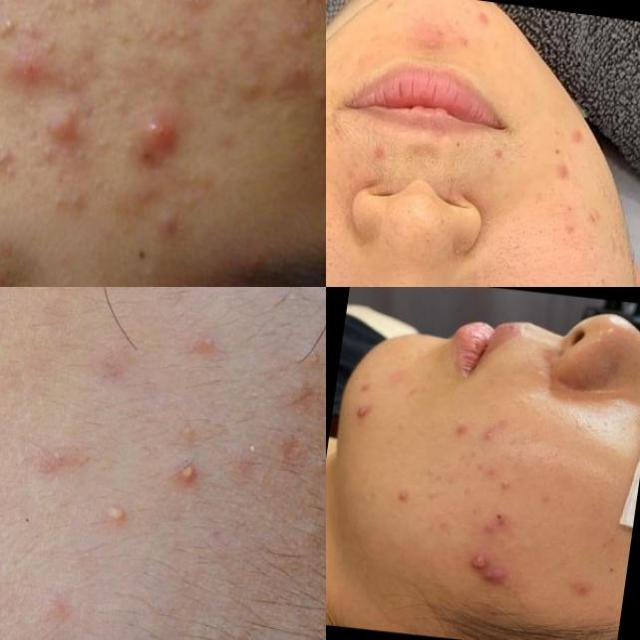acne_scars: (556, 210, 580, 250), (551, 158, 575, 192), (566, 118, 586, 154)
comedone: (41, 179, 97, 221), (286, 506, 324, 563), (162, 6, 200, 58), (0, 134, 26, 188), (122, 248, 156, 287), (302, 169, 326, 224), (165, 190, 204, 223), (202, 85, 237, 118), (100, 86, 125, 125), (0, 8, 25, 42), (88, 125, 112, 159), (164, 0, 216, 14), (234, 70, 264, 94), (592, 265, 620, 287), (308, 82, 326, 114), (319, 456, 326, 508)
papule: (0, 33, 50, 96), (40, 93, 86, 150), (270, 55, 320, 106), (379, 487, 418, 526), (437, 416, 472, 454), (478, 510, 515, 538), (472, 1, 497, 40)
pustule: (120, 98, 193, 172), (172, 450, 212, 491), (88, 498, 126, 533), (340, 400, 370, 433), (472, 423, 502, 455), (484, 479, 516, 503)
sebo-crystan-conglo: (476, 571, 514, 593), (452, 549, 486, 571)
